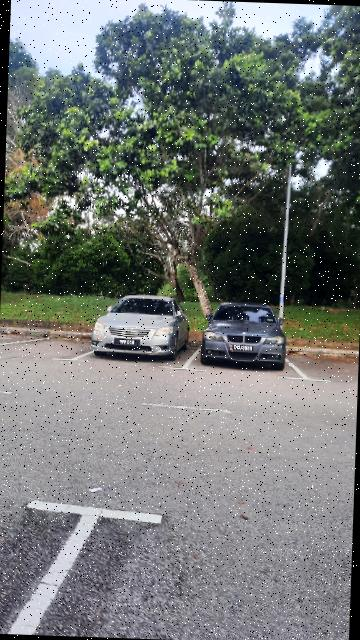License_Plate: (114, 338, 142, 346), (233, 344, 255, 352)
car: (92, 294, 192, 361), (201, 300, 288, 372)
